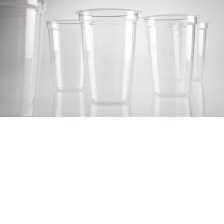glass: (72, 3, 144, 107), (0, 0, 46, 120), (140, 10, 196, 100), (40, 16, 94, 94), (166, 14, 212, 85)
